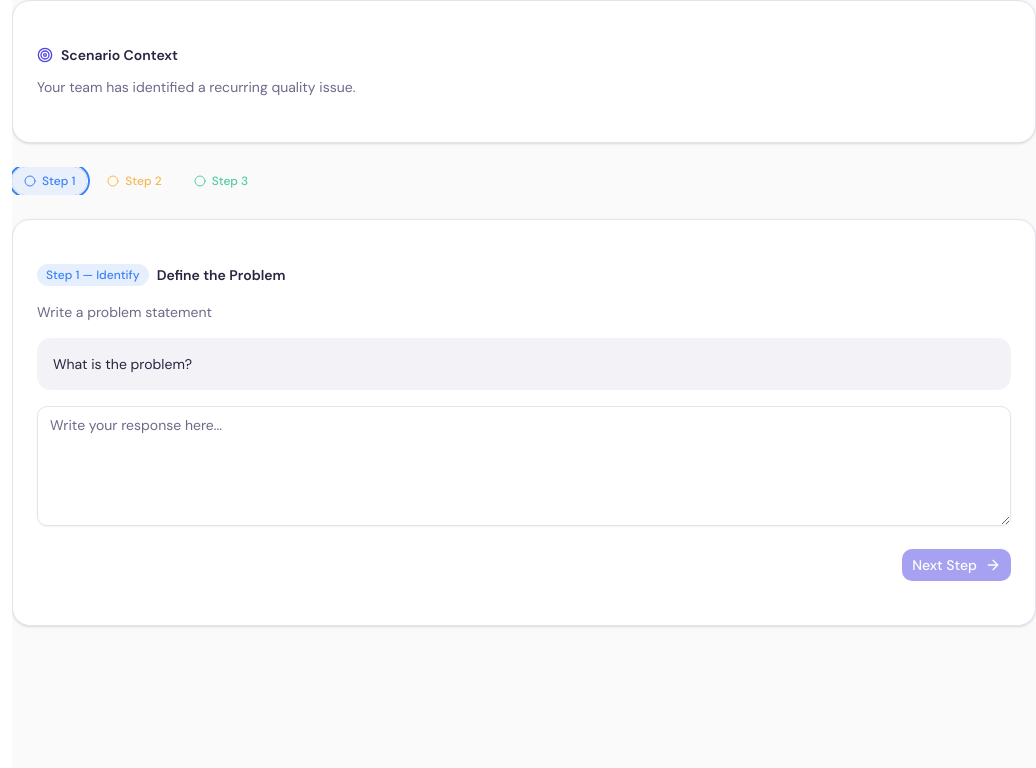
Test: ScenarioRunner › allows navigating back to a completed step
In the text box: (524, 466) [37,406,1011,526], type "Step 1 done"
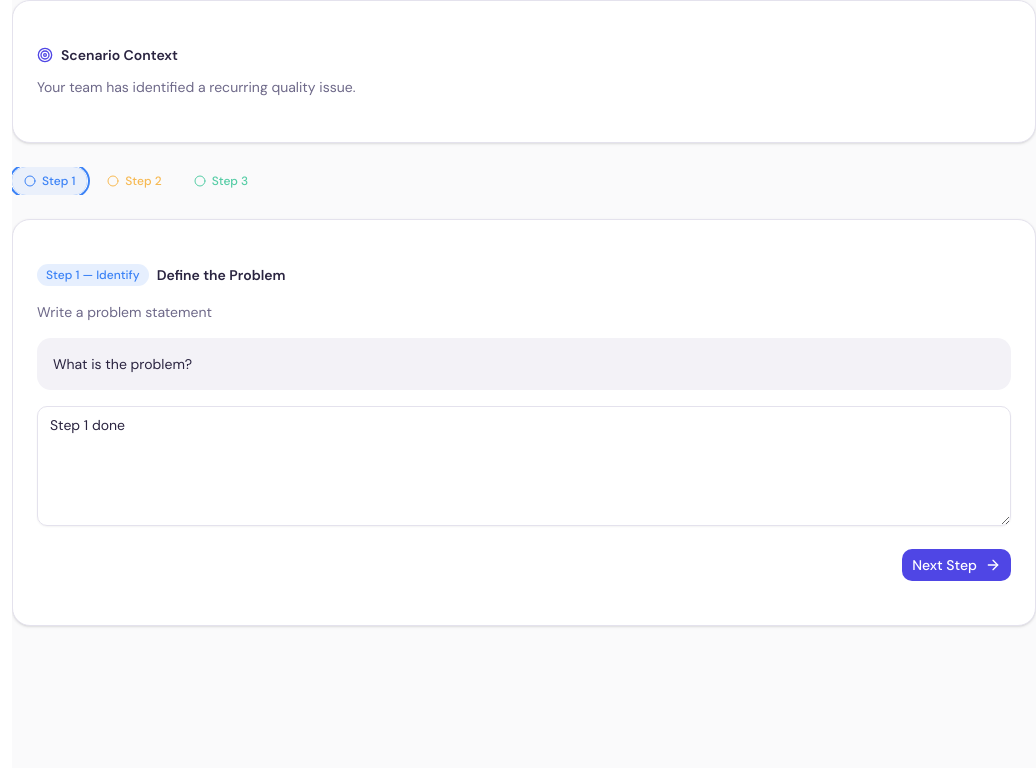
Click the button "Next Step": (957, 565) [902,549,1011,581]
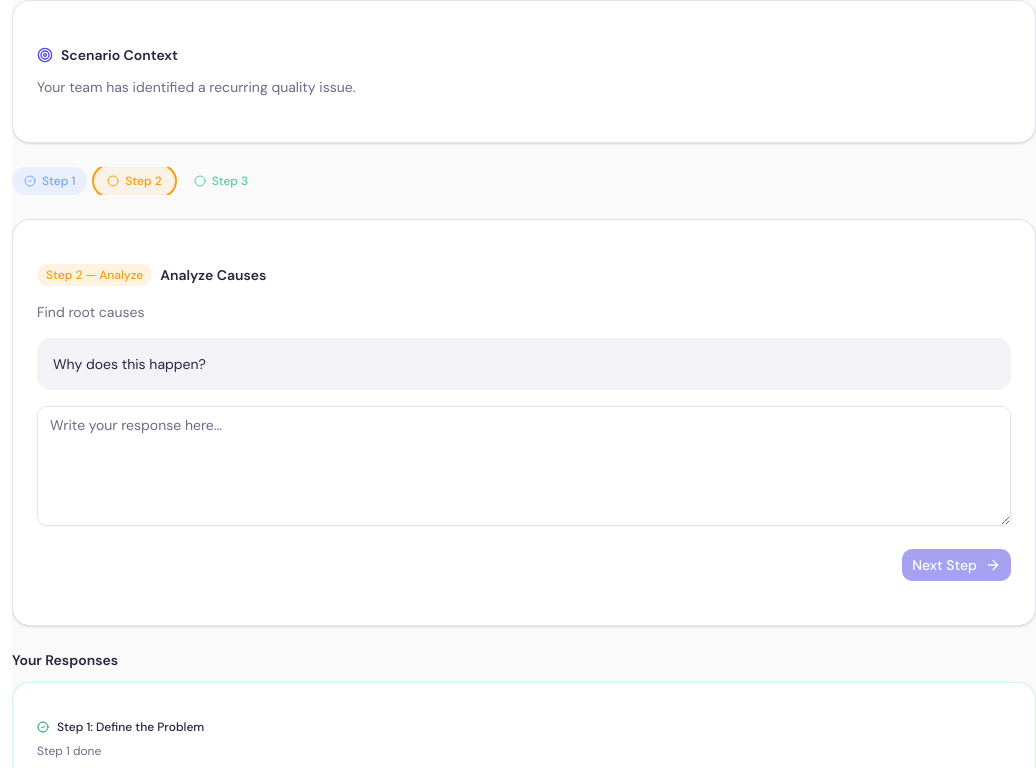
// Click back to step 1
Click the button with aria-label "Step 1: Identify (completed)": (50, 181) [12,167,87,195]
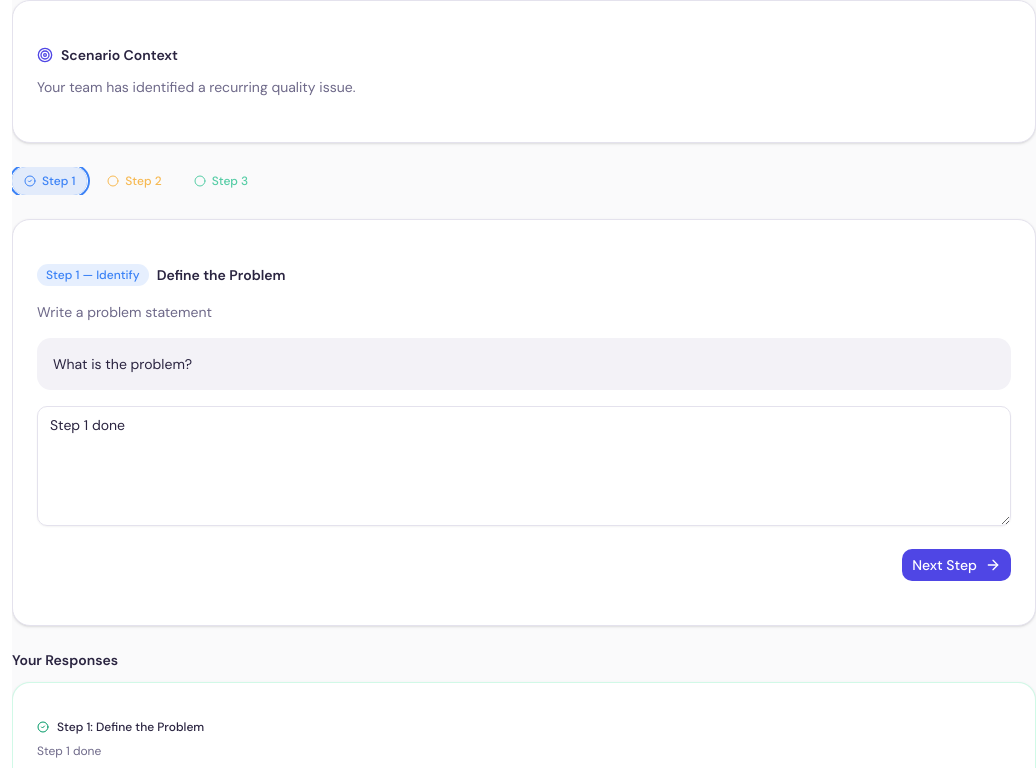
Expected: the text "What is the problem?" is shown, [37,338,1011,390]
